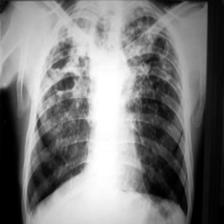tuberculosis: (23, 0, 194, 224)
